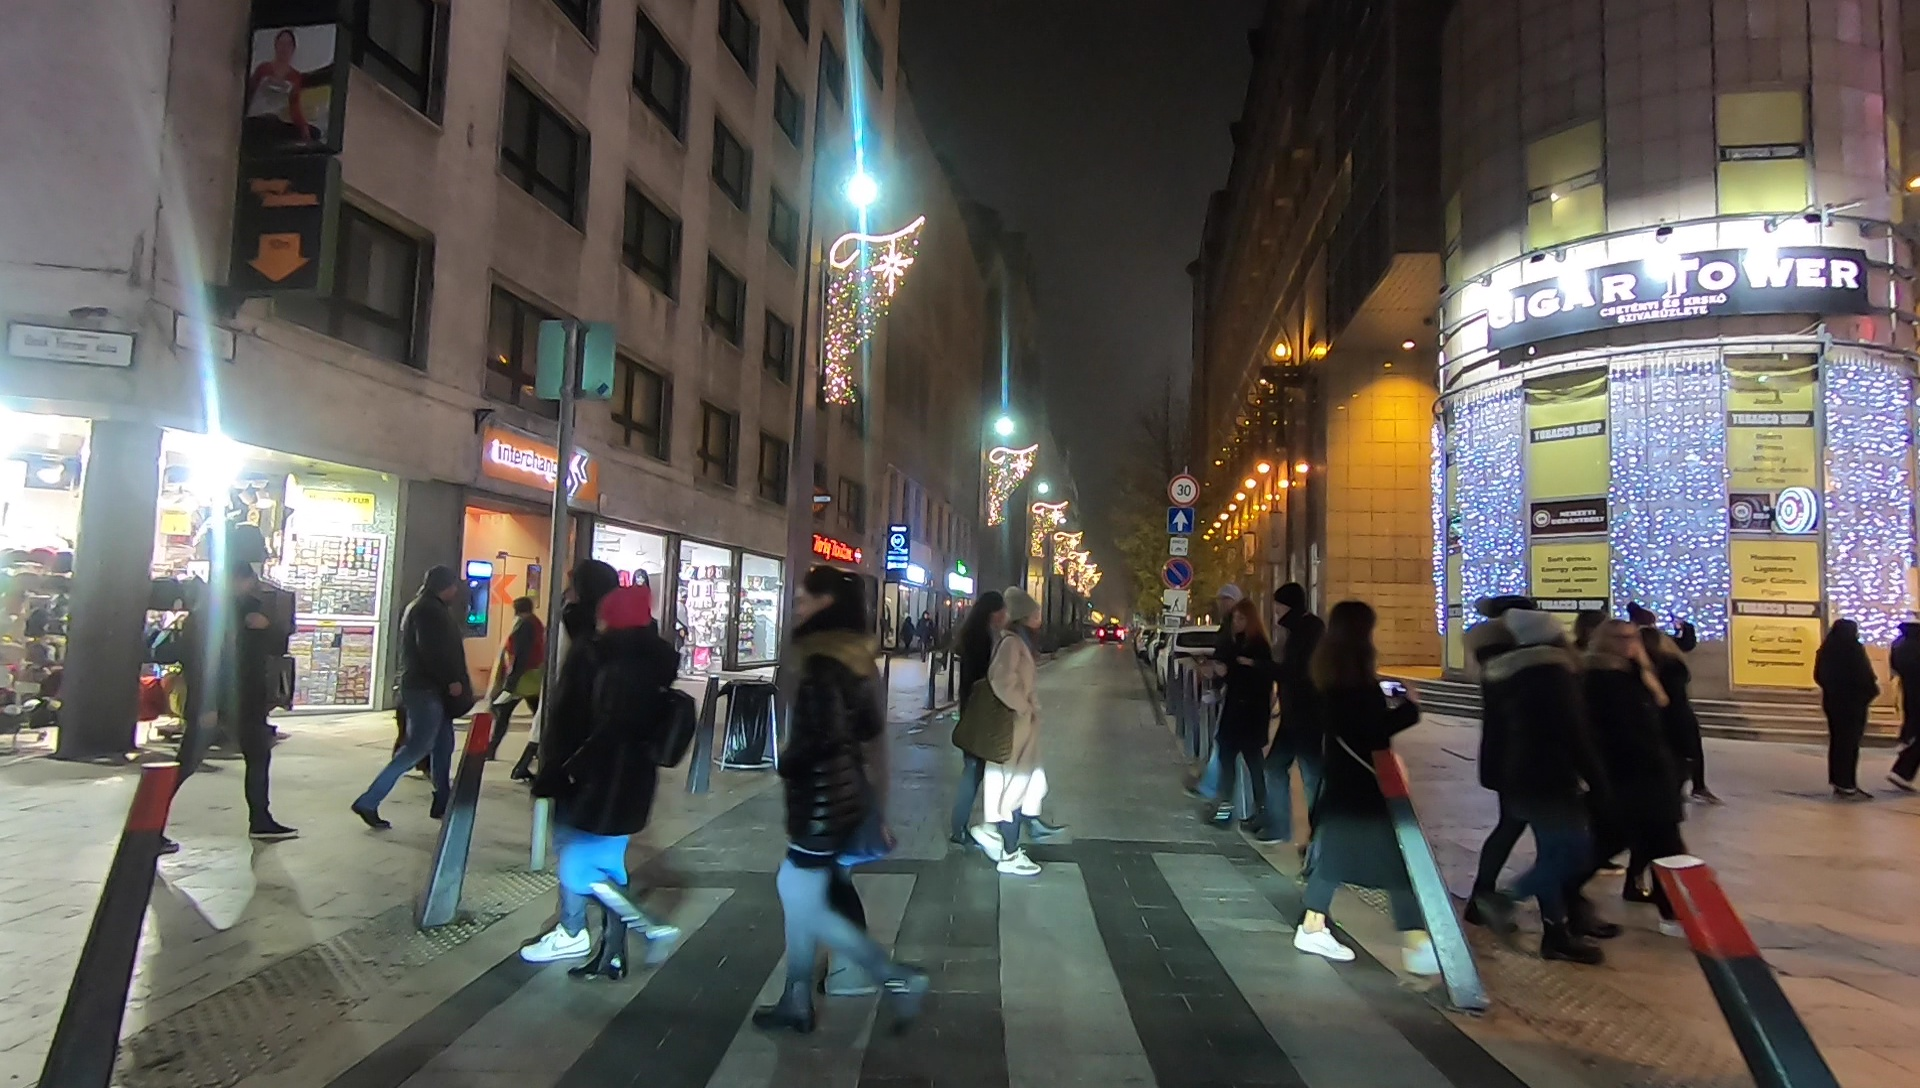person: (775, 567, 932, 1037), (1306, 593, 1447, 978), (152, 515, 304, 850), (525, 561, 619, 960), (588, 587, 676, 978), (1510, 613, 1599, 958), (351, 563, 464, 821), (951, 587, 1054, 839), (1630, 600, 1725, 817), (1578, 608, 1647, 904), (1265, 574, 1325, 850), (1204, 586, 1271, 819), (995, 587, 1049, 878), (1823, 619, 1871, 808), (1891, 615, 1920, 803)
